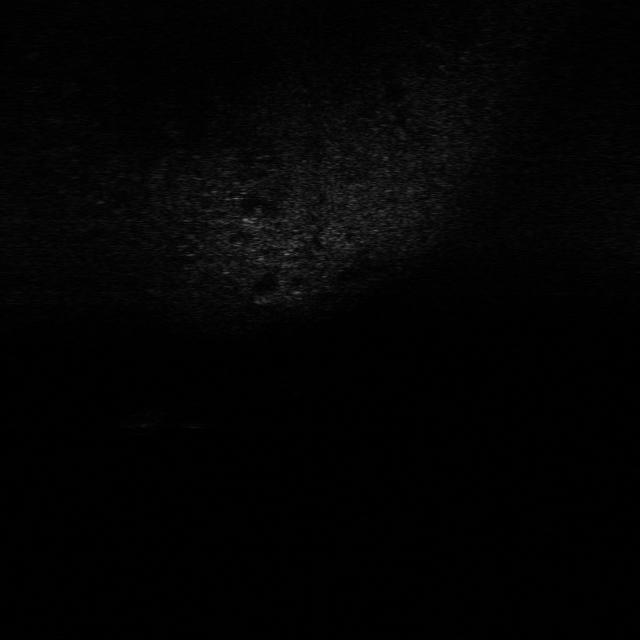ball: (174, 401, 220, 430)
circle cage: (116, 409, 174, 439)
